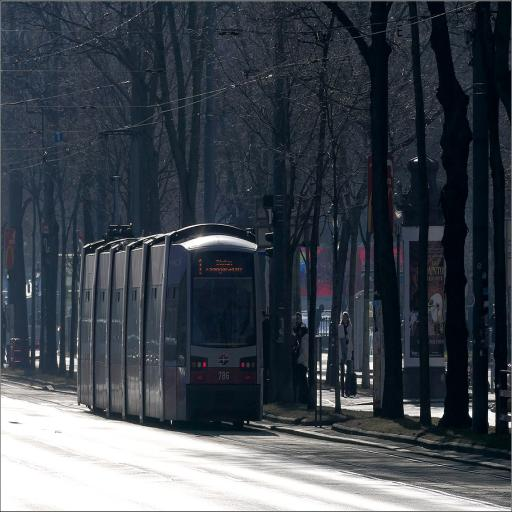ULF: (78, 220, 266, 424)
